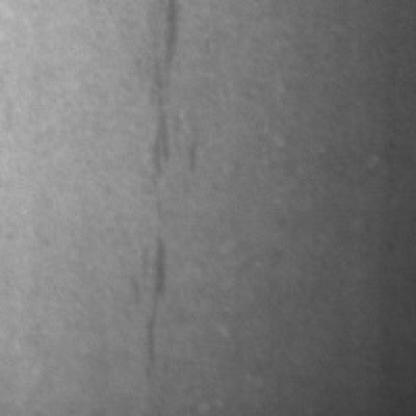inclusion: (142, 0, 196, 233), (131, 223, 181, 393)
